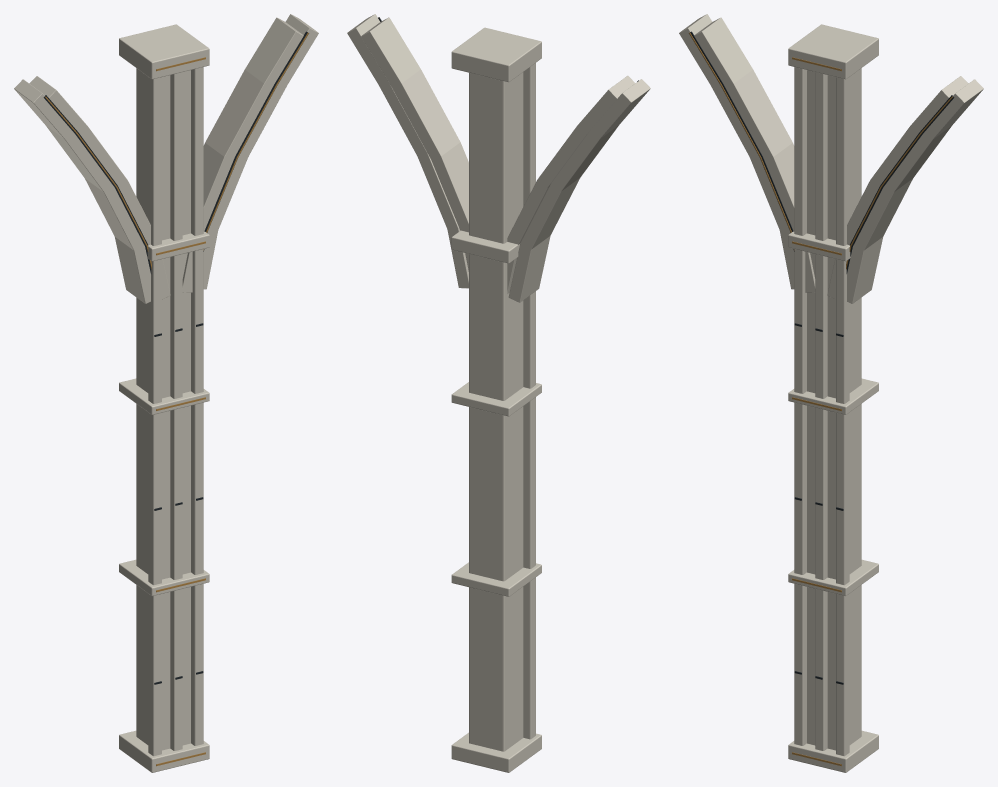
File: SM_Aurelion_KIT_Z02BranchPier.fbx
3 renders of one model, left to right at view 1: azimuth 30°, elevation 25°; view 2: azimuth 150°, elevation 25°; view 3: azimuth 330°, elevation 25°, orthographic.
Parts seen in each view (by area): view 1: SM_Aurelion_KIT_Z02BranchPier; view 2: SM_Aurelion_KIT_Z02BranchPier; view 3: SM_Aurelion_KIT_Z02BranchPier.
Part boxes in pixels (bbox=[...]): SM_Aurelion_KIT_Z02BranchPier: bbox=[14, 14, 318, 772]; SM_Aurelion_KIT_Z02BranchPier: bbox=[347, 14, 650, 772]; SM_Aurelion_KIT_Z02BranchPier: bbox=[679, 14, 983, 772].
Size of what is drawn, in the model's own units: 413 by 84.13 by 981.
